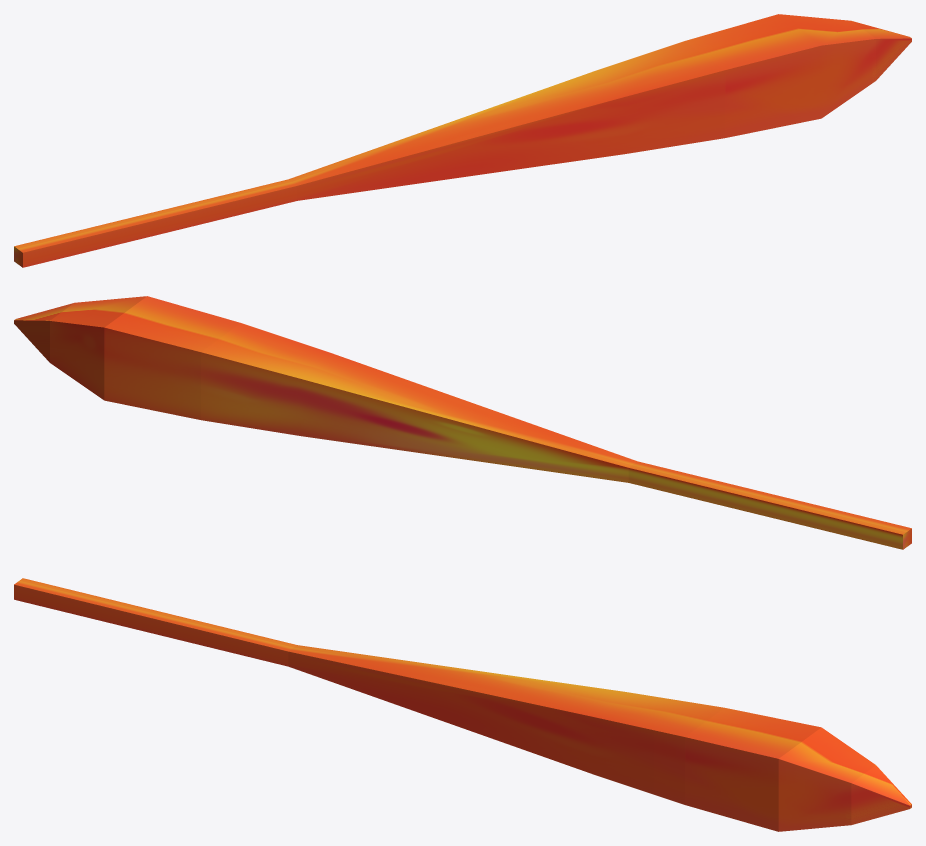
The model's file is weapon2.glb.
3 renders of one model, top to bottom at view 1: azimuth 30°, elevation 25°; view 2: azimuth 150°, elevation 25°; view 3: azimuth 330°, elevation 25°, orthographic.
Parts seen in each view (by area): view 1: weapon.001; view 2: weapon.001; view 3: weapon.001.
Boxes of the visible parts, bbox=[...] form: weapon.001: bbox=[14, 14, 911, 267]; weapon.001: bbox=[14, 296, 911, 549]; weapon.001: bbox=[14, 578, 911, 831].
Bounding box in the file's own units: 7.21 × 0.5634 × 0.6016.
Materials: 1 (1 with a texture image).
